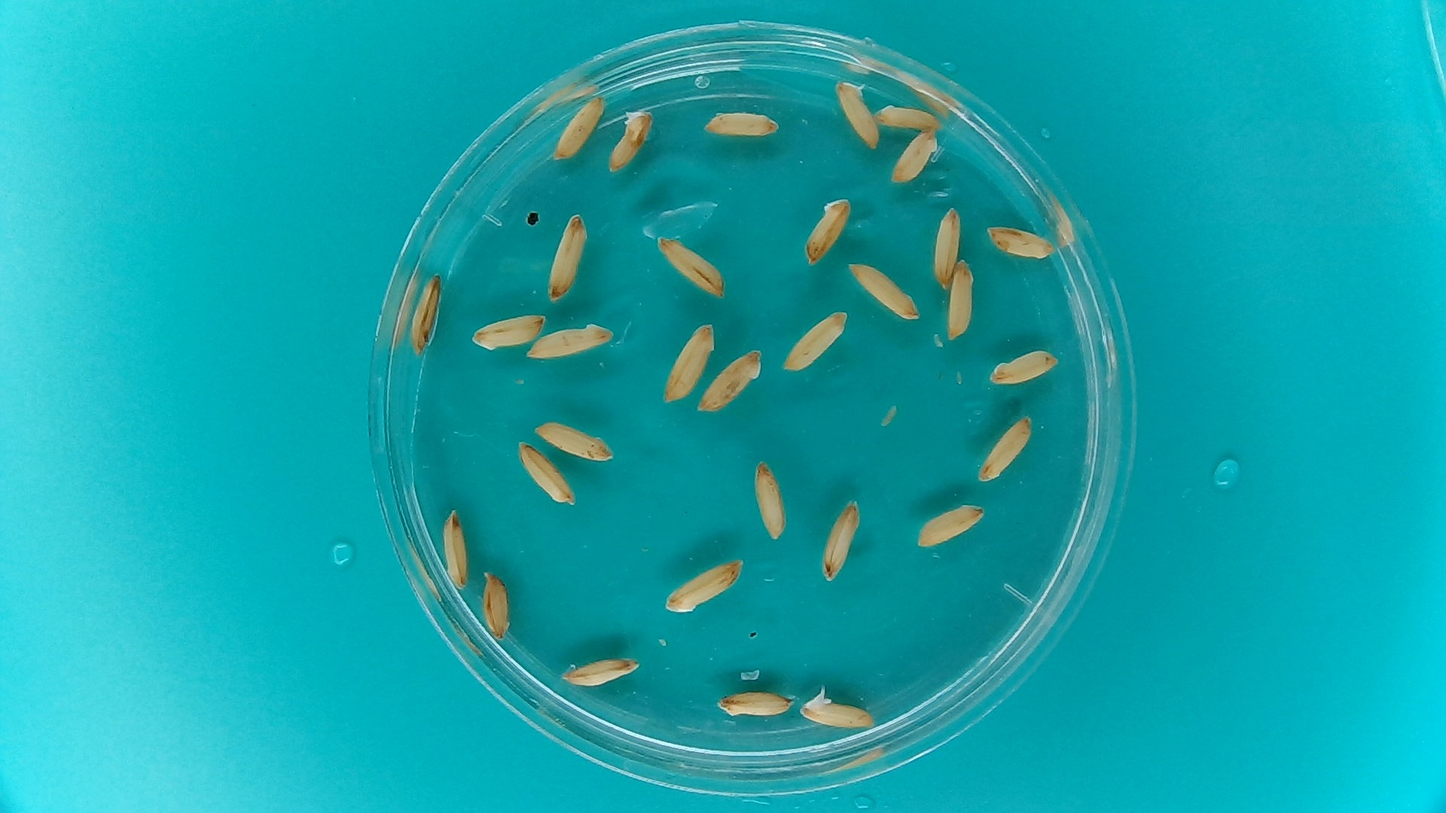no: (661, 558, 748, 618), (660, 319, 718, 405), (850, 259, 923, 323), (655, 233, 728, 297), (779, 309, 847, 374), (545, 212, 592, 306), (697, 349, 763, 414), (976, 413, 1033, 486), (816, 495, 862, 585), (517, 440, 576, 509), (550, 93, 607, 164), (914, 500, 988, 553), (532, 417, 615, 464), (801, 196, 853, 266), (526, 321, 616, 361), (606, 105, 655, 177), (558, 655, 645, 692), (468, 312, 549, 351), (752, 458, 789, 543), (407, 272, 444, 356), (984, 221, 1054, 264), (439, 507, 474, 593), (987, 347, 1060, 388), (477, 568, 516, 644), (700, 105, 781, 139), (714, 688, 797, 721), (892, 129, 941, 184), (947, 257, 977, 343), (932, 206, 960, 292), (874, 100, 942, 132)
yes: (796, 686, 878, 732), (832, 78, 880, 152)
